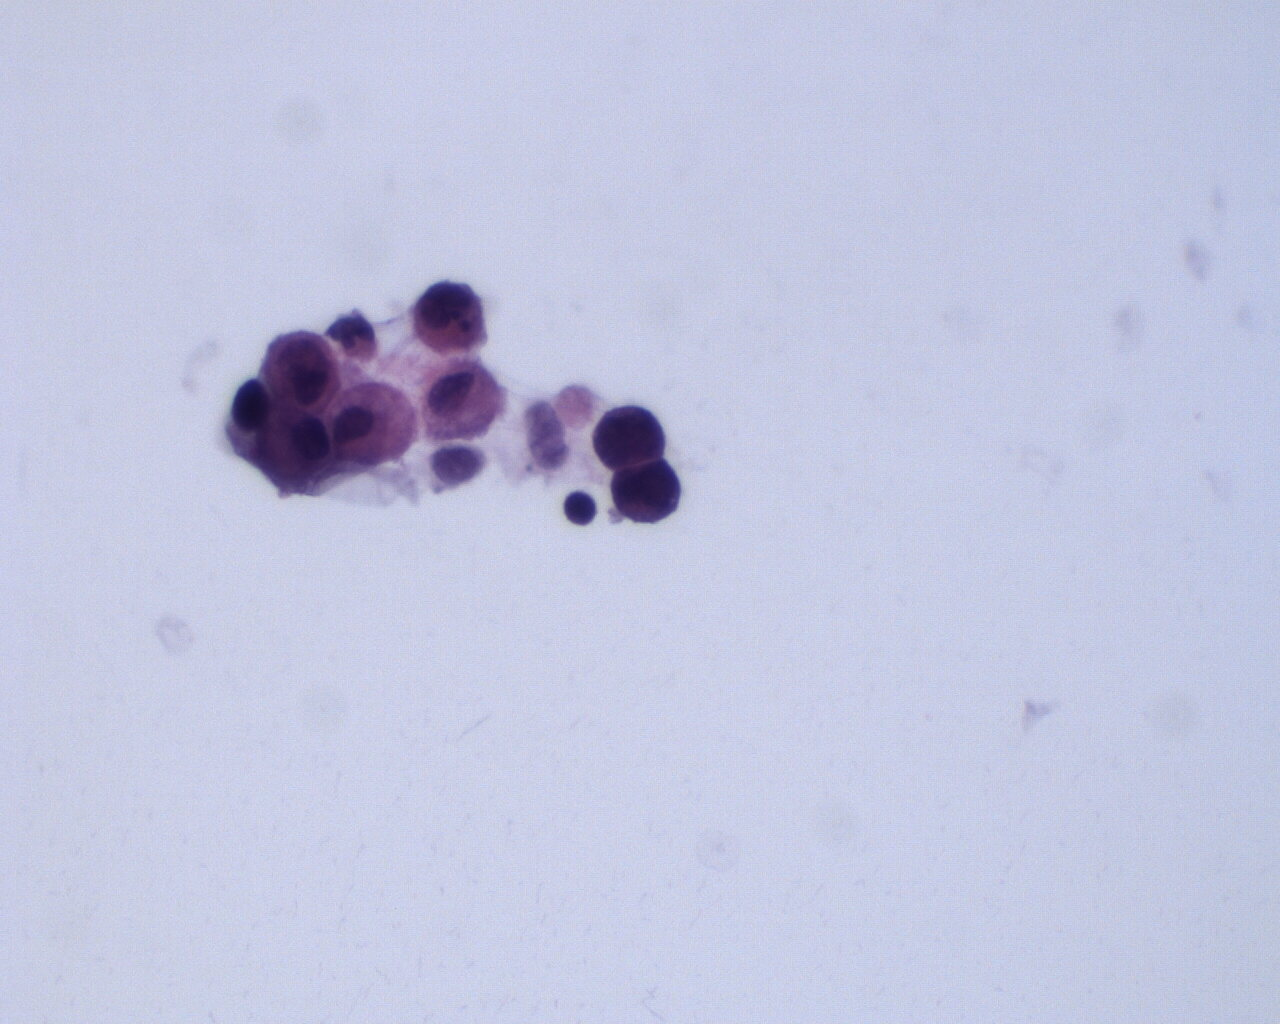ab: (258, 330, 344, 409), (409, 278, 493, 356), (603, 461, 686, 526), (586, 402, 668, 468)
lymph: (558, 485, 600, 529)
